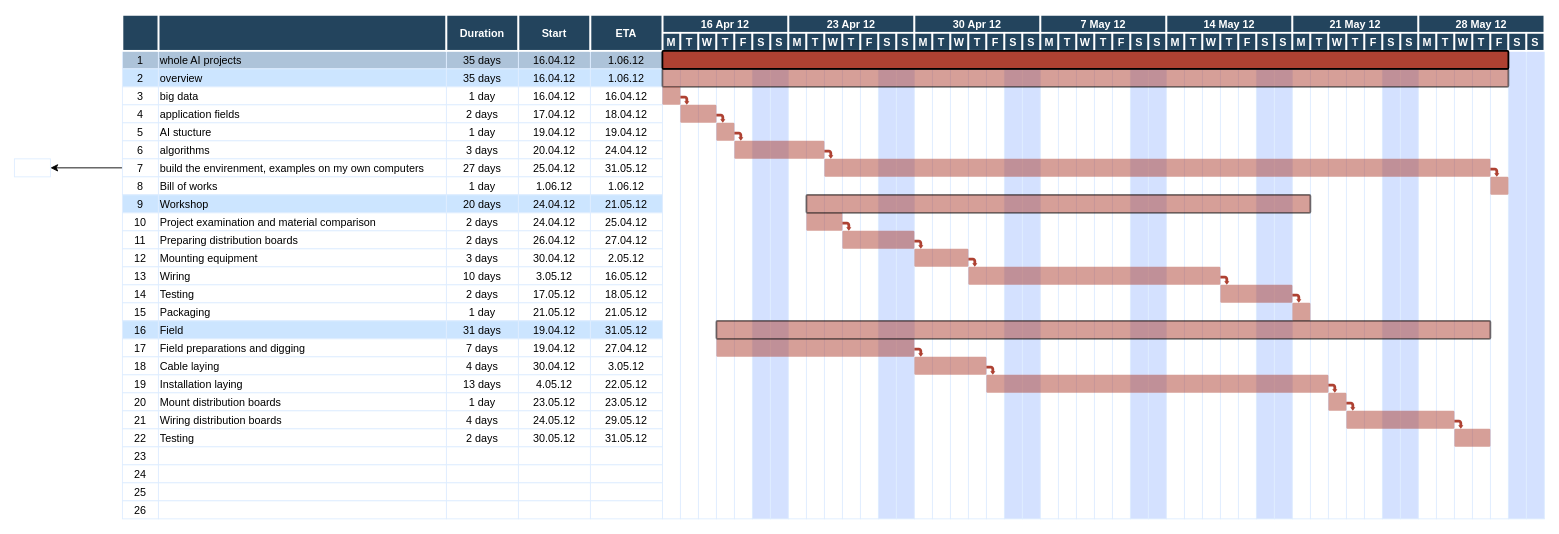
Image size: 1559x534. Some labels were removed from this diagram. The box of each missing label's shape, as (x1, y1, x2, y2) in pixels:
own: (14, 158, 50, 177)
Task Name: (157, 14, 447, 51)
